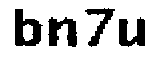7: (82, 6, 116, 49)
b: (10, 5, 43, 49)
n: (48, 14, 80, 53)
u: (117, 18, 149, 50)
